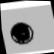correct: (7, 20, 38, 48)
